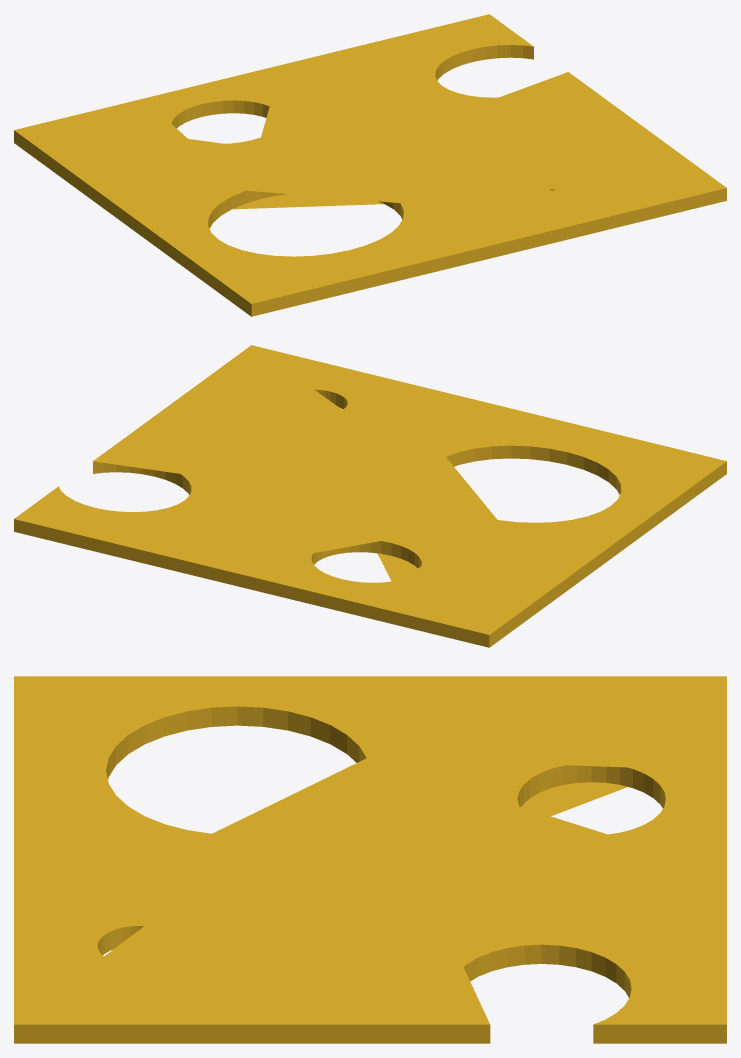
The model's file is Kaas bitch.fbx.
3 views of the same model, one above another, from view 1: azimuth 30°, elevation 25°; view 2: azimuth 150°, elevation 25°; view 3: azimuth 270°, elevation 25° (orthographic). The views are drawn at different scales.
Visible parts, largest first — view 1: KAAS; view 2: KAAS; view 3: KAAS.
Boxes of the visible parts, bbox=[...] form: KAAS: bbox=[14, 14, 726, 316]; KAAS: bbox=[14, 345, 726, 647]; KAAS: bbox=[14, 676, 726, 1043].
Size of the model in its own units: 237 by 6.11 by 205.
